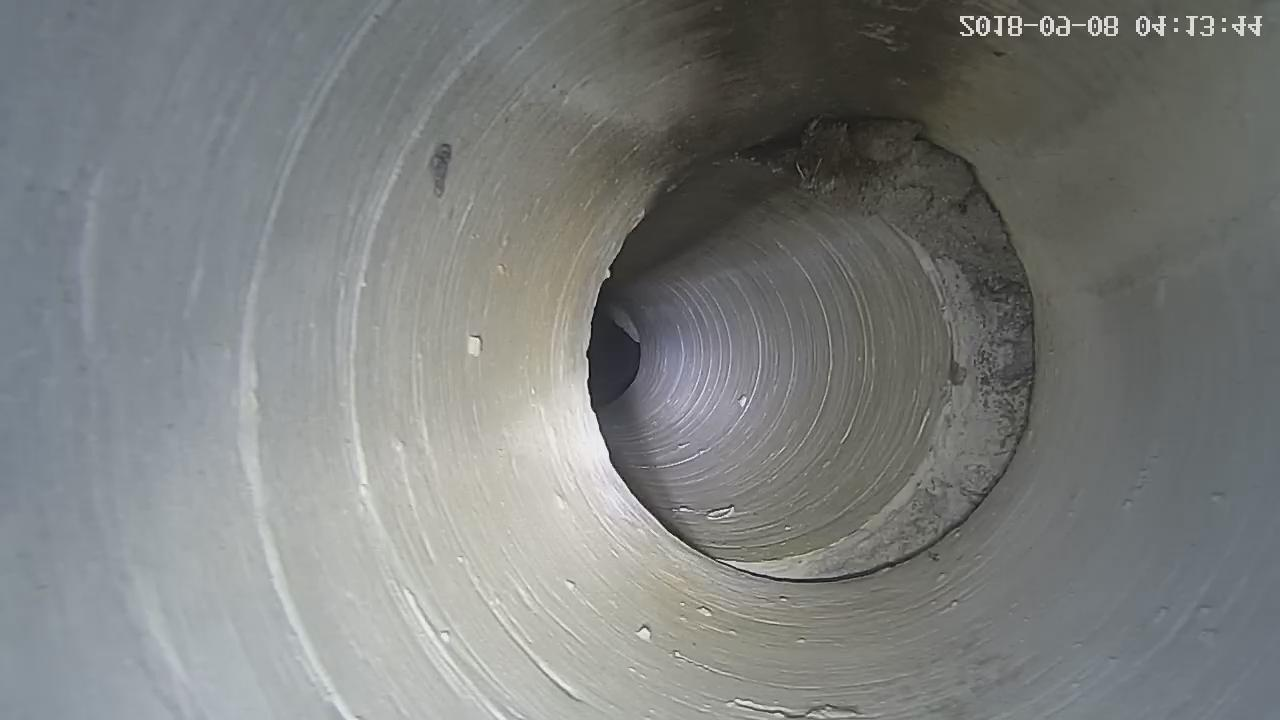CKTJ: (717, 121, 1034, 579)
